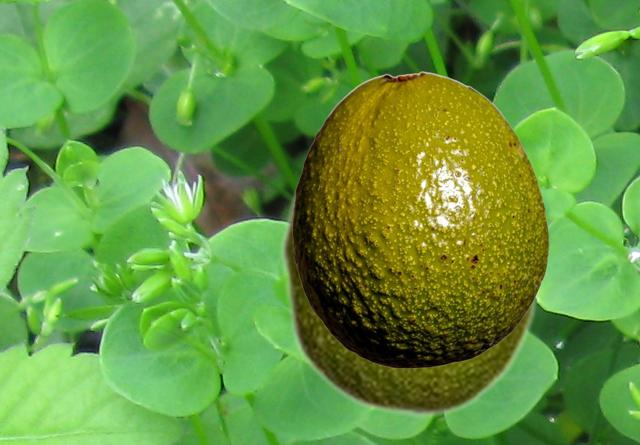avocado: (292, 71, 548, 367), (279, 175, 540, 419)
